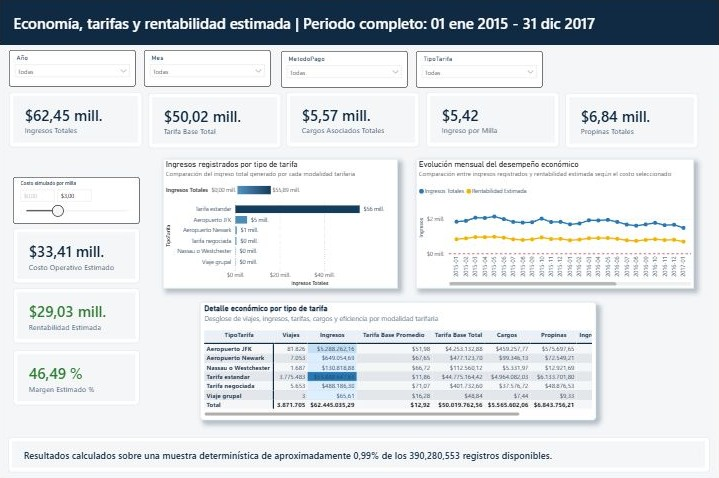

The dashboard page shown, as its layout file describes it:
{"tool":"powerbi","page":{"name":"05 Economía y Rentabilidad","canvas":[1550,1030],"ordinal":4},"visuals":[{"type":"shape","box":[0,0,1550,97.1],"z":0},{"type":"slicer","fields":{"Values":["DimFecha.Año"]},"box":[20,108.6,272.9,78.6],"z":1000},{"type":"slicer","fields":{"Values":["DimFecha.Mes"]},"box":[311.4,108.6,272.9,78.6],"z":2000},{"type":"cardVisual","fields":{"Data":["MedidasDAX.Titulo Economia Rentabilidad"]},"box":[0,0,1468.6,97.1],"z":3000},{"type":"cardVisual","fields":{"Data":["MedidasDAX.Nota Metodologica"]},"box":[18,943,1512.9,75.7],"z":4000},{"type":"slicer","fields":{"Values":["DimMetodoPago.MetodoPago"]},"box":[605,109,272.9,78.6],"z":5000},{"type":"slicer","fields":{"Values":["DimTipoTarifa.TipoTarifa"]},"box":[896,109,272.9,78.6],"z":6000},{"type":"slicer","fields":{"Values":["CostoPorMillaSimulado.CostoPorMillaSimulado"]},"box":[27,382,273,101],"z":7000},{"type":"cardVisual","fields":{"Data":["MedidasDAX.Ingresos Totales"]},"box":[20,199,287.1,118.6],"z":8000},{"type":"cardVisual","fields":{"Data":["MedidasDAX.Tarifa Base Total"]},"box":[318,200,287.1,118.6],"z":9000},{"type":"cardVisual","fields":{"Data":["MedidasDAX.Cargos Asociados Totales"]},"box":[617,199,287.1,118.6],"z":10000},{"type":"cardVisual","fields":{"Data":["MedidasDAX.Ingreso por Milla"]},"box":[919,199,287.1,118.6],"z":11000},{"type":"cardVisual","fields":{"Data":["MedidasDAX.Propinas Totales"]},"box":[1219,200,287.1,118.6],"z":12000},{"type":"cardVisual","fields":{"Data":["MedidasDAX.Costo Operativo Estimado"]},"box":[27,491,273,119],"z":13000},{"type":"cardVisual","fields":{"Data":["MedidasDAX.Margen Estimado %"]},"box":[27,755,273,119],"z":14000},{"type":"cardVisual","fields":{"Data":["MedidasDAX.Rentabilidad Estimada"]},"box":[27,621,273,119],"z":15000},{"type":"clusteredBarChart","title":"Ingresos registrados por tipo de tarifa","fields":{"Category":["DimTipoTarifa.TipoTarifa"],"Y":["MedidasDAX.Ingresos Totales"]},"box":[352,343,506,279],"z":16000},{"type":"lineChart","title":"Evolución mensual del desempeño económico","fields":{"Category":["DimFecha.AñoMes"],"Y":["MedidasDAX.Ingresos Totales","MedidasDAX.Rentabilidad Estimada"]},"box":[896,343,599,279],"z":17000},{"type":"pivotTable","title":"Detalle económico por tipo de tarifa","fields":{"Rows":["DimTipoTarifa.TipoTarifa"],"Values":["MedidasDAX.Total Viajes","MedidasDAX.Ingresos Totales","MedidasDAX.Tarifa Base Promedio por Viaje","MedidasDAX.Tarifa Base Total","MedidasDAX.Cargos Asociados Totales","MedidasDAX.Propinas Totales","MedidasDAX.Ingreso Promedio por Viaje","MedidasDAX.Ingreso por Milla"]},"box":[431,652,854,255],"z":18000}]}

Visuals, with their boxes in screenshot pixels (x1, y1, x2, y2), scaled from the page's 1550x1030 canvas onto the 719x478 screenshot:
shape: (x1=0, y1=0, x2=718, y2=45)
slicer - DimFecha.Año: (x1=9, y1=50, x2=136, y2=87)
slicer - DimFecha.Mes: (x1=144, y1=50, x2=271, y2=87)
cardVisual - MedidasDAX.Titulo Economia Rentabilidad: (x1=0, y1=0, x2=681, y2=45)
cardVisual - MedidasDAX.Nota Metodologica: (x1=8, y1=438, x2=710, y2=473)
slicer - DimMetodoPago.MetodoPago: (x1=281, y1=51, x2=407, y2=87)
slicer - DimTipoTarifa.TipoTarifa: (x1=416, y1=51, x2=542, y2=87)
slicer - CostoPorMillaSimulado.CostoPorMillaSimulado: (x1=13, y1=177, x2=139, y2=224)
cardVisual - MedidasDAX.Ingresos Totales: (x1=9, y1=92, x2=142, y2=147)
cardVisual - MedidasDAX.Tarifa Base Total: (x1=148, y1=93, x2=281, y2=148)
cardVisual - MedidasDAX.Cargos Asociados Totales: (x1=286, y1=92, x2=419, y2=147)
cardVisual - MedidasDAX.Ingreso por Milla: (x1=426, y1=92, x2=559, y2=147)
cardVisual - MedidasDAX.Propinas Totales: (x1=565, y1=93, x2=699, y2=148)
cardVisual - MedidasDAX.Costo Operativo Estimado: (x1=13, y1=228, x2=139, y2=283)
cardVisual - MedidasDAX.Margen Estimado %: (x1=13, y1=350, x2=139, y2=406)
cardVisual - MedidasDAX.Rentabilidad Estimada: (x1=13, y1=288, x2=139, y2=343)
"Ingresos registrados por tipo de tarifa" clusteredBarChart: (x1=163, y1=159, x2=398, y2=289)
"Evolución mensual del desempeño económico" lineChart: (x1=416, y1=159, x2=693, y2=289)
"Detalle económico por tipo de tarifa" pivotTable: (x1=200, y1=303, x2=596, y2=421)
